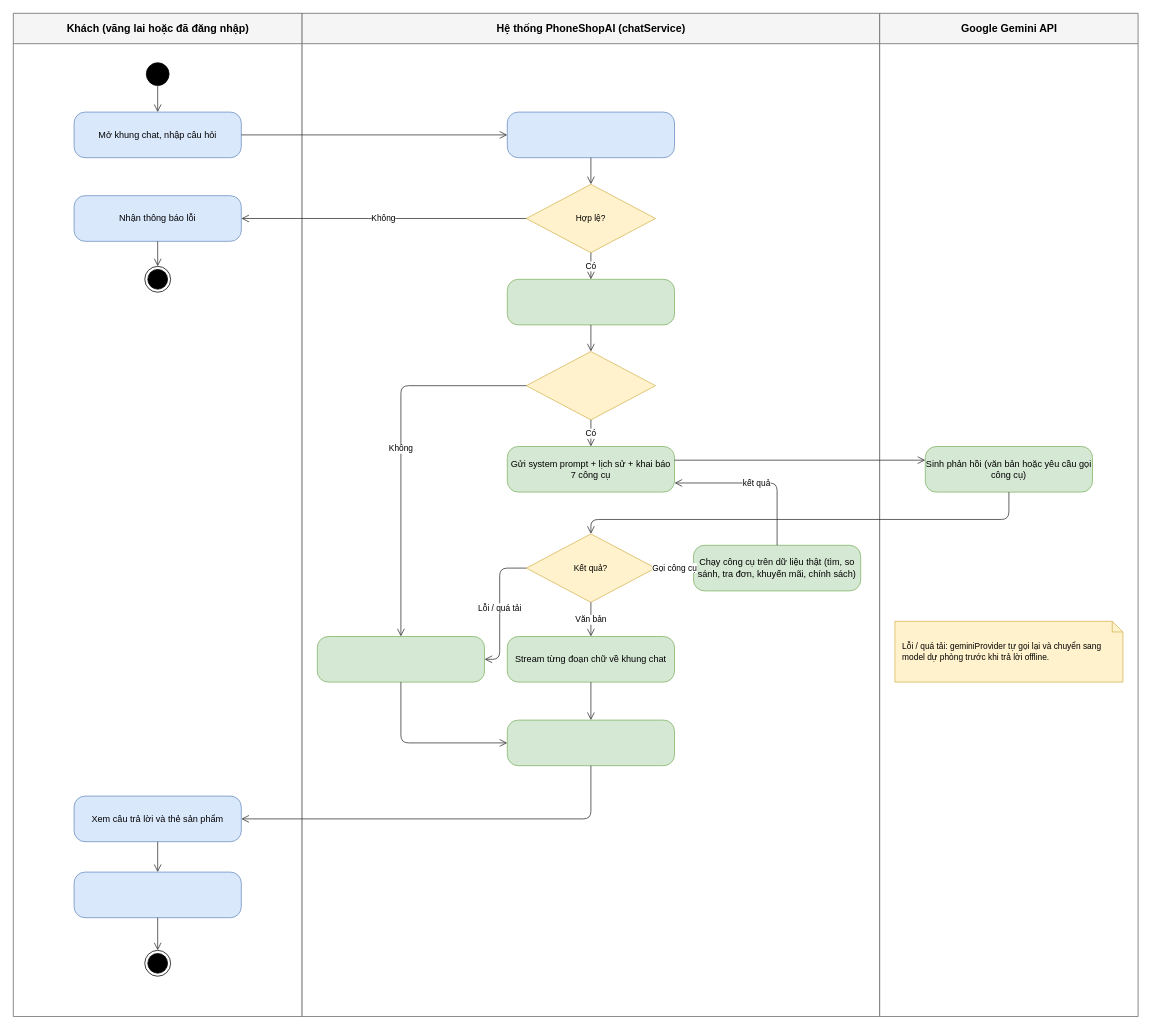
Image size: 1151x1030. Some labels were removed from this diagram. Each missing label, with the centre of its shape:
Kiểm tra: chatbot đang bật, ≤ 1000 ký tự, ≤ 20 tin/phút: point 590,134
Lưu câu trả lời (nguồn, công cụ, thời gian), gửi thẻ sản phẩm: point 590,742
Thêm sản phẩm vào giỏ, đánh giá 👍/👎 (tuỳ chọn): point 157,894
Trả lời offline theo luật trên dữ liệu thật: point 400,659
Tạo hoặc khôi phục phiên chat, lưu tin nhắn: point 590,302
Đã cấu hình Gemini API key?: point 591,385
